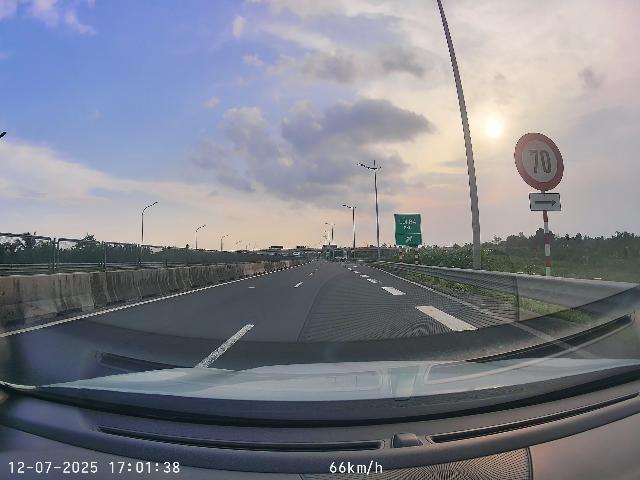127-toc-do-toi-da-70: (514, 132, 564, 191)
